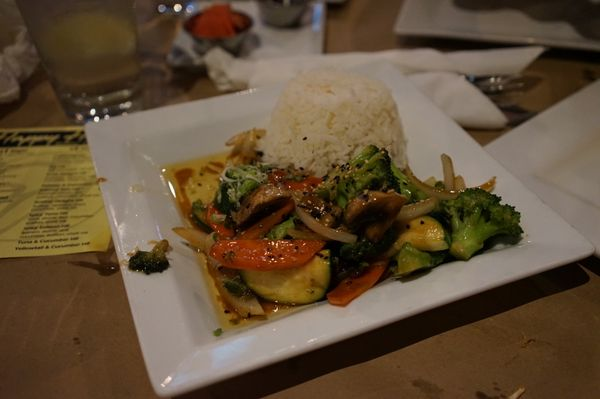curry: (439, 188, 526, 261)
